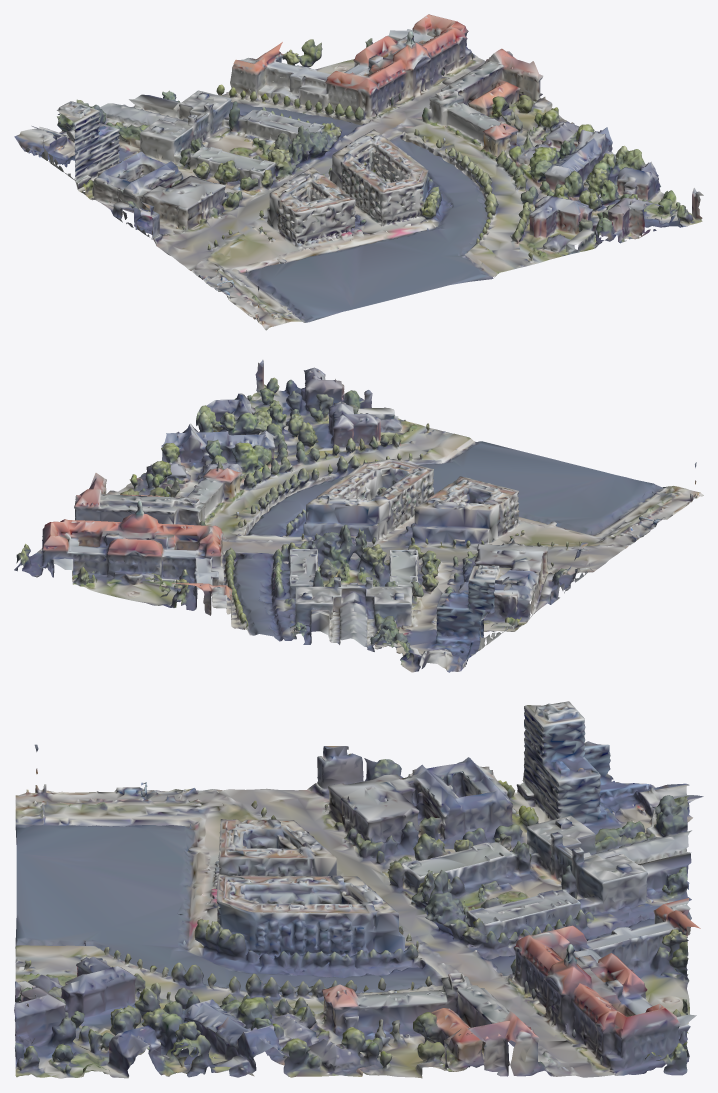
File: tile-3894_58207.glb
The picture shows the model from 3 angles, top to bottom: view 1: azimuth 30°, elevation 25°; view 2: azimuth 150°, elevation 25°; view 3: azimuth 270°, elevation 25°; orthographic projection. The views are drawn at different scales.
Parts seen in each view (by area): view 1: world; view 2: world; view 3: world.
Boxes of the visible parts, left/top/right/bottom form: world: left=14, top=14, right=703, bottom=330; world: left=14, top=359, right=703, bottom=672; world: left=14, top=701, right=703, bottom=1078.
Bounding box in the file's own units: 365 × 61.21 × 370.
